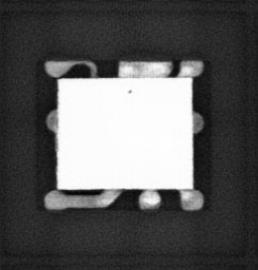DIE_INK: (126, 87, 134, 95)
